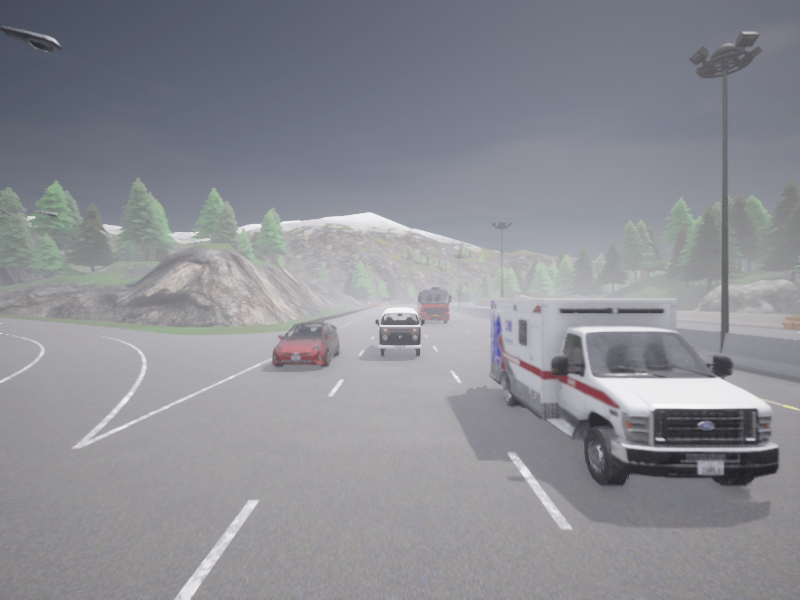vehicle: (488, 299, 778, 484), (272, 322, 339, 367), (375, 308, 424, 356), (417, 286, 451, 323), (692, 347, 723, 379)
